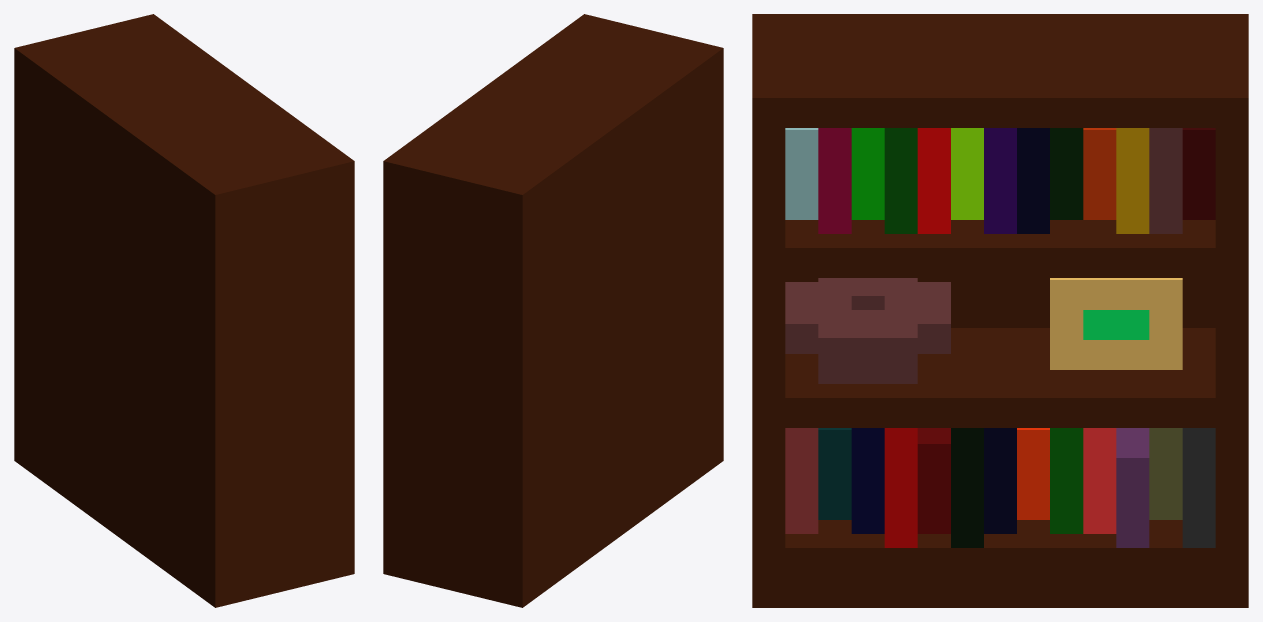
Rendered from shelf_2.obj.
The picture shows the model from 3 angles, left to right: view 1: azimuth 30°, elevation 25°; view 2: azimuth 150°, elevation 25°; view 3: azimuth 270°, elevation 25°; orthographic projection. The views are drawn at different scales.
Parts seen in each view (by area): view 1: shelf_2; view 2: shelf_2; view 3: shelf_2.
Boxes of the visible parts, x1,y1,x2,y2 form: shelf_2: (14, 14, 354, 607); shelf_2: (383, 14, 723, 607); shelf_2: (752, 14, 1248, 607).
Size of the model in its own units: 6 by 17 by 15.
1 material, 1 textured.
